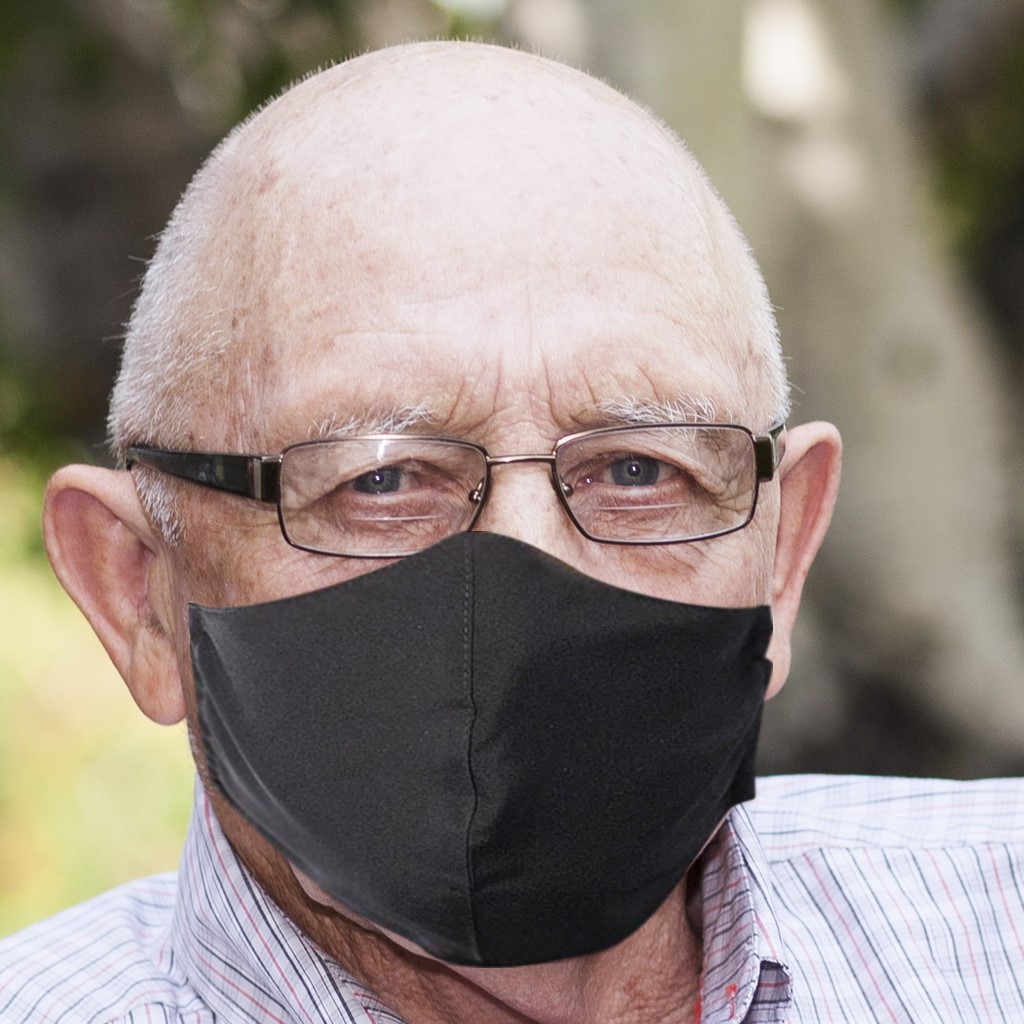con_mascara: (118, 63, 777, 986)
